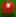red: (0, 0, 16, 17)
